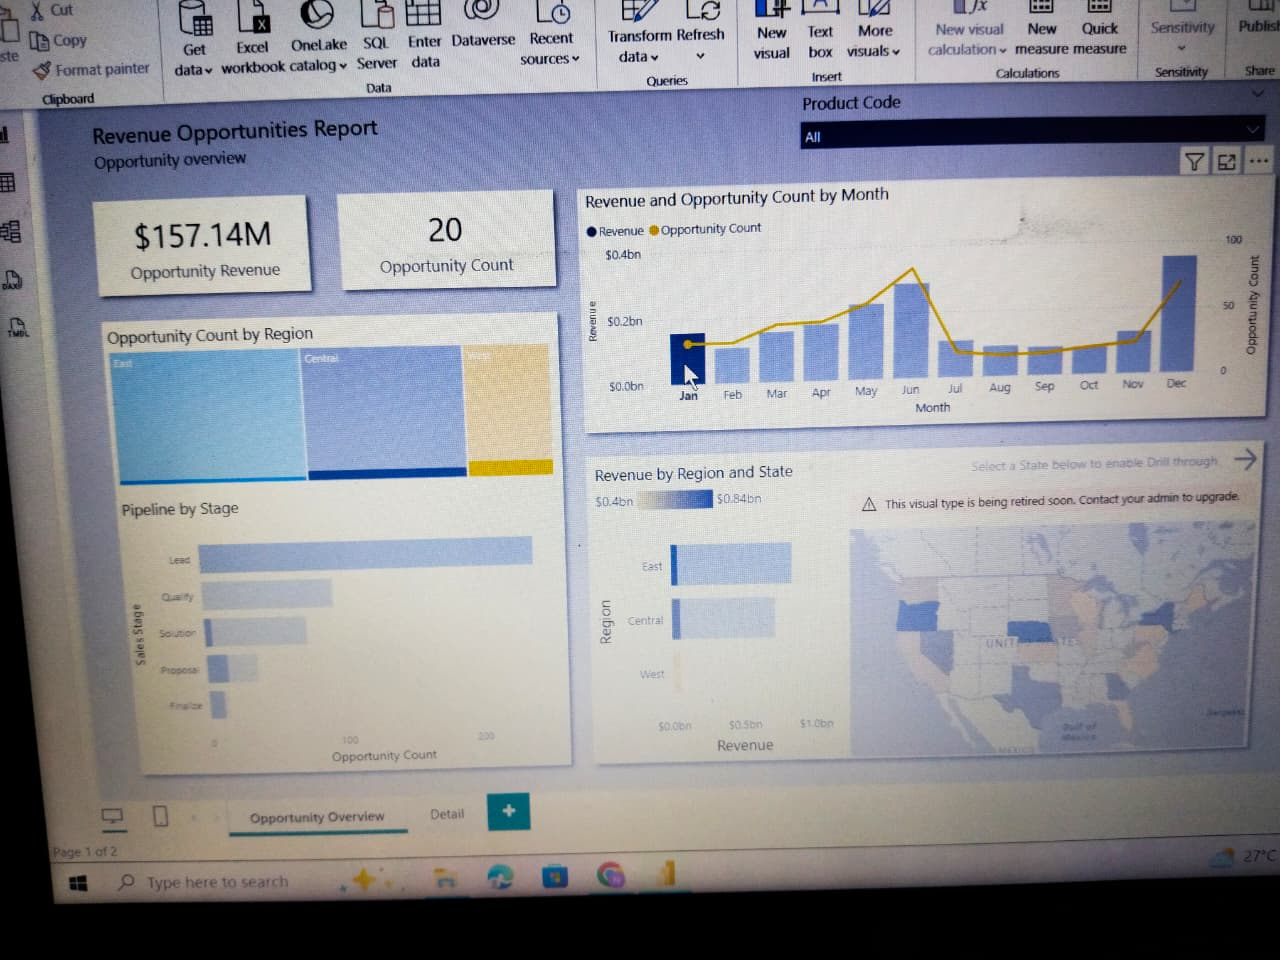

Layout of this report page (visuals, bound fields, positions):
{"tool":"powerbi","page":{"name":"Opportunity Overview","canvas":[1280,720],"ordinal":0},"visuals":[{"type":"card","title":"Revenue","fields":{"Values":["Fact.Revenue"]},"box":[49.6,92.4,215,91.4],"z":0,"group":"g1"},{"type":"card","title":"Count","fields":{"Values":["Fact.Opportunity Count"]},"box":[291.8,92.4,215,91.4],"z":1000,"group":"g1"},{"type":"basicShape","title":"Shape for mobile","box":[968,471.9,12.5,12.5],"z":1000},{"type":"slicer","title":"Product Slicer","fields":{"Values":["Product.Product Code"]},"box":[742.8,0,486.4,75.1],"z":6000},{"type":"treemap","fields":{"Group":["Account.Region","Account.State"],"Values":["Fact.Opportunity Count"]},"box":[48,216,456,168],"z":7000},{"type":"filledMap","fields":{"Category":["Account.State"]},"box":[800,400,432,288],"z":8000},{"type":"lineStackedColumnComboChart","fields":{"Category":["Fact.Month"],"Y":["Fact.Revenue"],"Y2":["Fact.Opportunity Count"]},"box":[535,92.4,694.5,238.3],"z":9000},{"type":"barChart","title":"Pipeline by Stage","fields":{"Category":["SalesStage.Sales Stage"],"Y":["Fact.Opportunity Count"]},"box":[48,392,456,296],"z":10000},{"type":"textbox","title":"Report Title","box":[47.7,8.3,600.9,63.2],"z":11000},{"type":"barChart","title":"Revenue by Region and State","fields":{"Category":["Account.Region","Account.State"],"Y":["Fact.Revenue"]},"box":[536,368,256,320],"z":12000},{"type":"actionButton","title":"Q&A","box":[1229.4,0,50.6,39.9],"z":13000},{"type":"actionButton","box":[928,360,304,40],"z":14000},{"type":"group","id":"g1","title":"Opportunity Cards","box":[49.6,92.4,457.1,91.4],"z":15000}]}

Visuals, with their boxes on the page's 1280x720 design canvas (x1, y1, x2, y2). These are canvas units, not pixel positions in the 1280x960 screenshot, which may show the page scaled, cropped or inside an application window:
"Revenue" card: x1=50 y1=92 x2=265 y2=184
"Count" card: x1=292 y1=92 x2=507 y2=184
"Shape for mobile" basicShape: x1=968 y1=472 x2=980 y2=484
"Product Slicer" slicer: x1=743 y1=0 x2=1229 y2=75
treemap - Account.Region x Account.State: x1=48 y1=216 x2=504 y2=384
filledMap - Account.State: x1=800 y1=400 x2=1232 y2=688
lineStackedColumnComboChart - Fact.Month x Fact.Revenue: x1=535 y1=92 x2=1230 y2=331
"Pipeline by Stage" barChart: x1=48 y1=392 x2=504 y2=688
"Report Title" textbox: x1=48 y1=8 x2=649 y2=72
"Revenue by Region and State" barChart: x1=536 y1=368 x2=792 y2=688
"Q&A" actionButton: x1=1229 y1=0 x2=1280 y2=40
actionButton: x1=928 y1=360 x2=1232 y2=400
"Opportunity Cards" group: x1=50 y1=92 x2=507 y2=184
